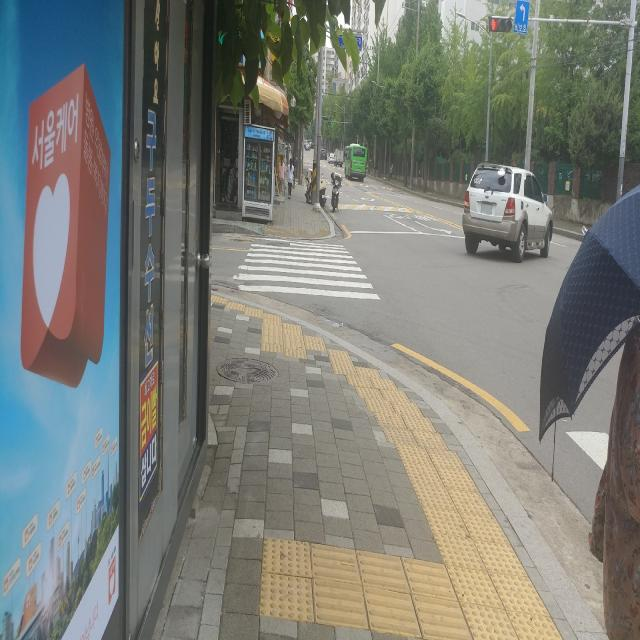횡단보도: (232, 236, 381, 302)
